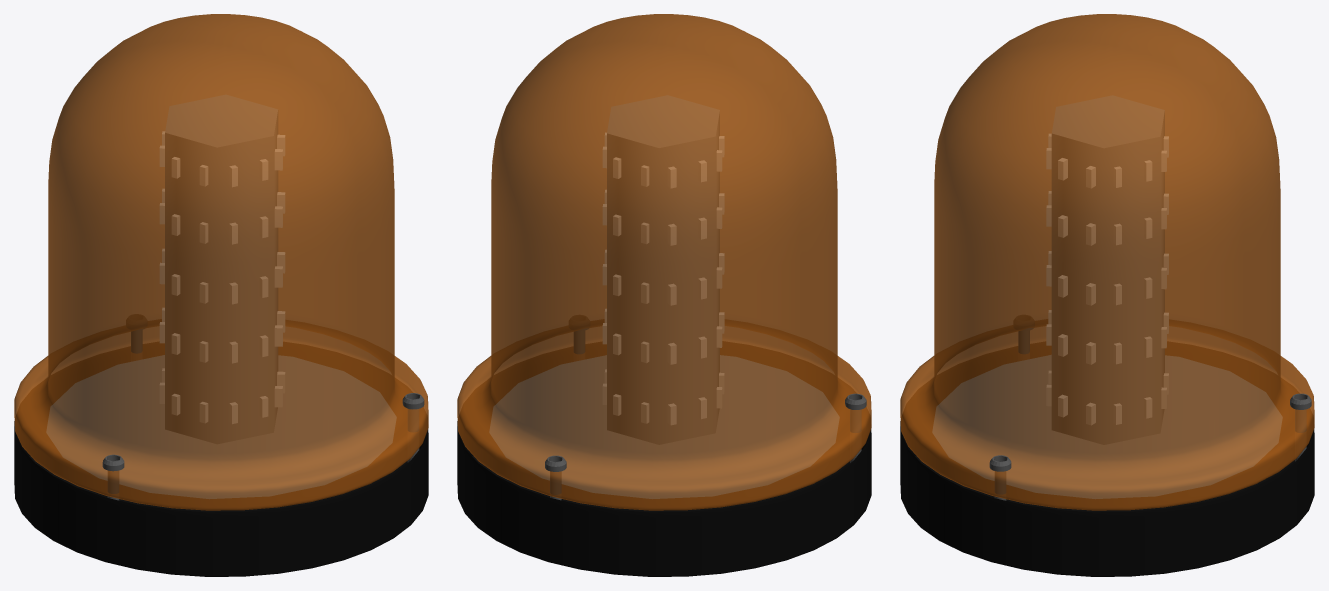
Rendered from Orange fbx.FBX.
3 renders of one model, left to right at view 1: azimuth 30°, elevation 25°; view 2: azimuth 150°, elevation 25°; view 3: azimuth 270°, elevation 25°, orthographic.
Visible parts, largest first — view 1: Cylinder001; view 2: Cylinder001; view 3: Cylinder001.
Boxes of the visible parts, x1=… form: Cylinder001: x1=14, y1=14, x2=428, y2=576; Cylinder001: x1=457, y1=14, x2=871, y2=576; Cylinder001: x1=900, y1=14, x2=1314, y2=576.
Size of the model in its own units: 16.44 by 20.13 by 16.44.
